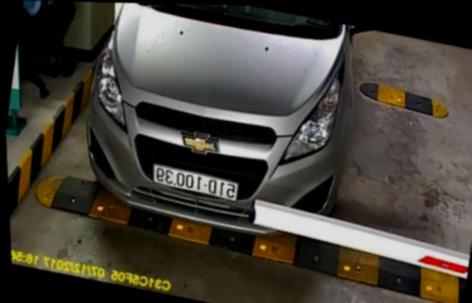License_Plate: (136, 168, 246, 206)
